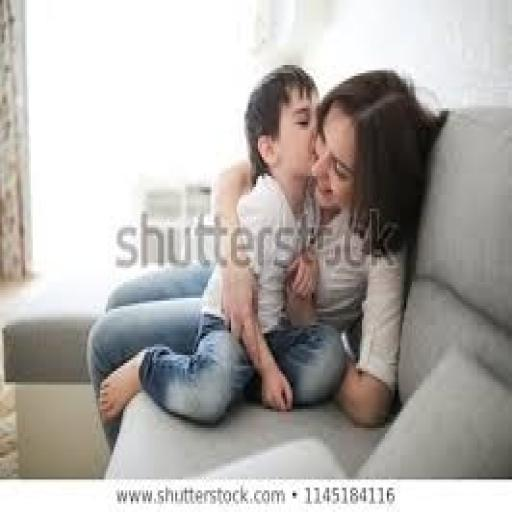hugging: (86, 62, 448, 442)
